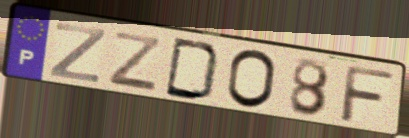8: (287, 58, 331, 118)
D: (162, 35, 224, 103)
F: (337, 63, 397, 126)
O: (224, 48, 279, 111)
Z: (47, 20, 109, 85), (106, 29, 163, 95)
